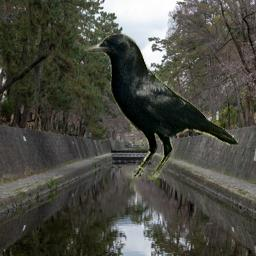Crow: (84, 33, 239, 180)
